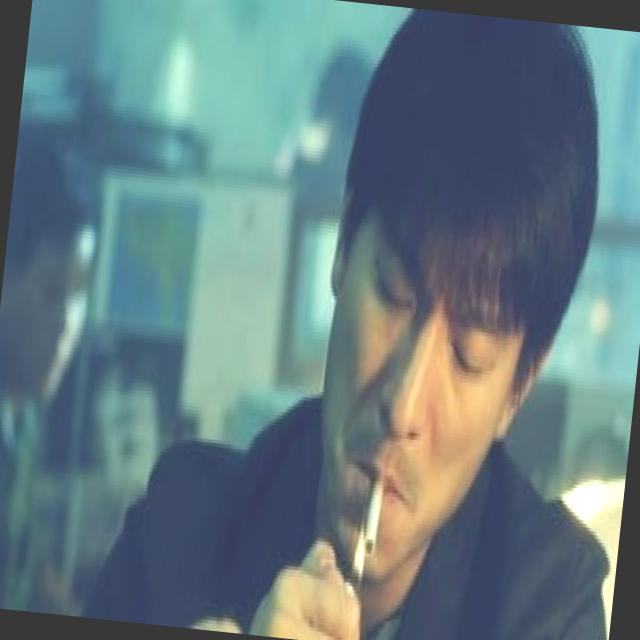smoke: (362, 468, 386, 559)
